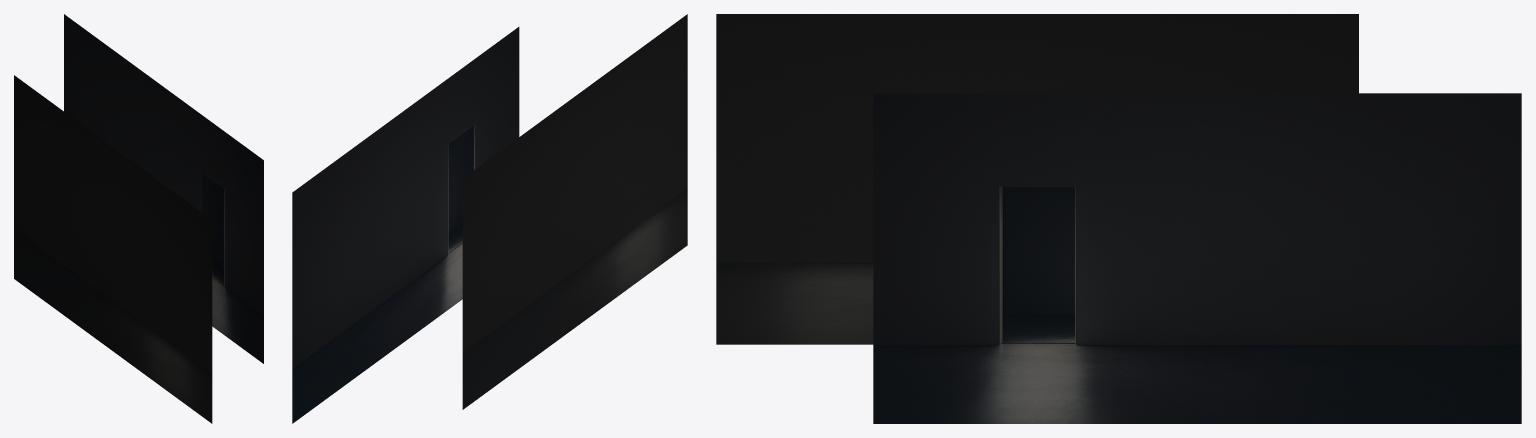
File: room4.glb
The picture shows the model from 3 angles, left to right: view 1: azimuth 30°, elevation 25°; view 2: azimuth 150°, elevation 25°; view 3: azimuth 270°, elevation 25°; orthographic projection. The views are drawn at different scales.
Visible parts, largest first — view 1: noDoor, gallery-wall; view 2: noDoor, gallery-wall; view 3: gallery-wall, noDoor.
Boxes of the visible parts, left/top/right/bottom form: noDoor: left=14, top=75, right=212, bottom=423; gallery-wall: left=64, top=14, right=263, bottom=363; noDoor: left=462, top=14, right=687, bottom=409; gallery-wall: left=292, top=27, right=519, bottom=423; gallery-wall: left=873, top=93, right=1521, bottom=423; noDoor: left=716, top=14, right=1358, bottom=344.
Bounding box in the file's own units: 1.06 × 2.07 × 4.58.
Materials: 2 (2 with a texture image).
